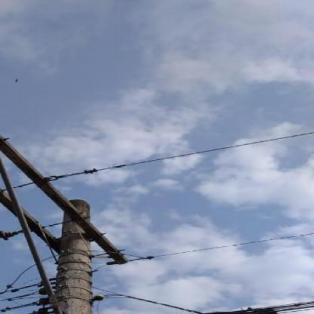Poste: (13, 194, 108, 314)
